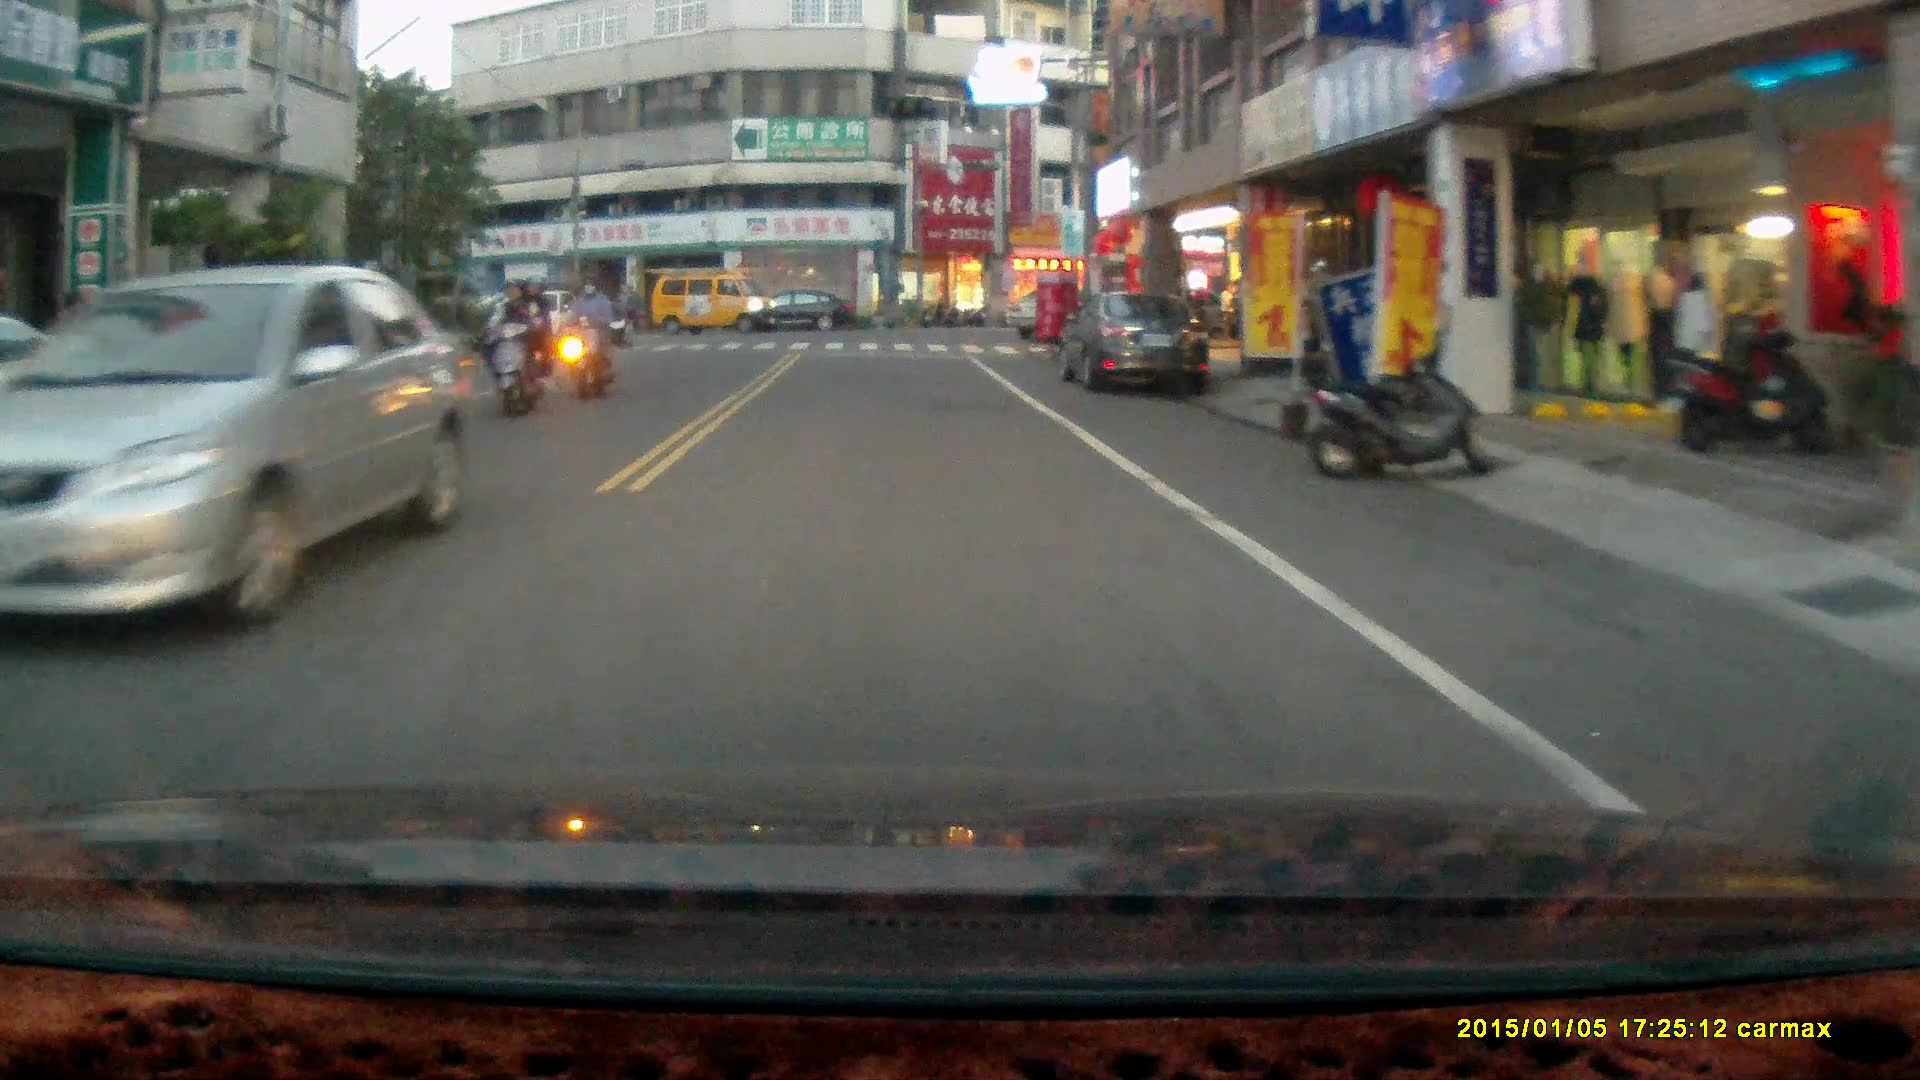rider: (483, 274, 555, 423), (564, 273, 616, 404)
vehicle: (88, 269, 450, 662), (1046, 285, 1217, 406), (646, 264, 783, 336), (740, 291, 857, 337)
